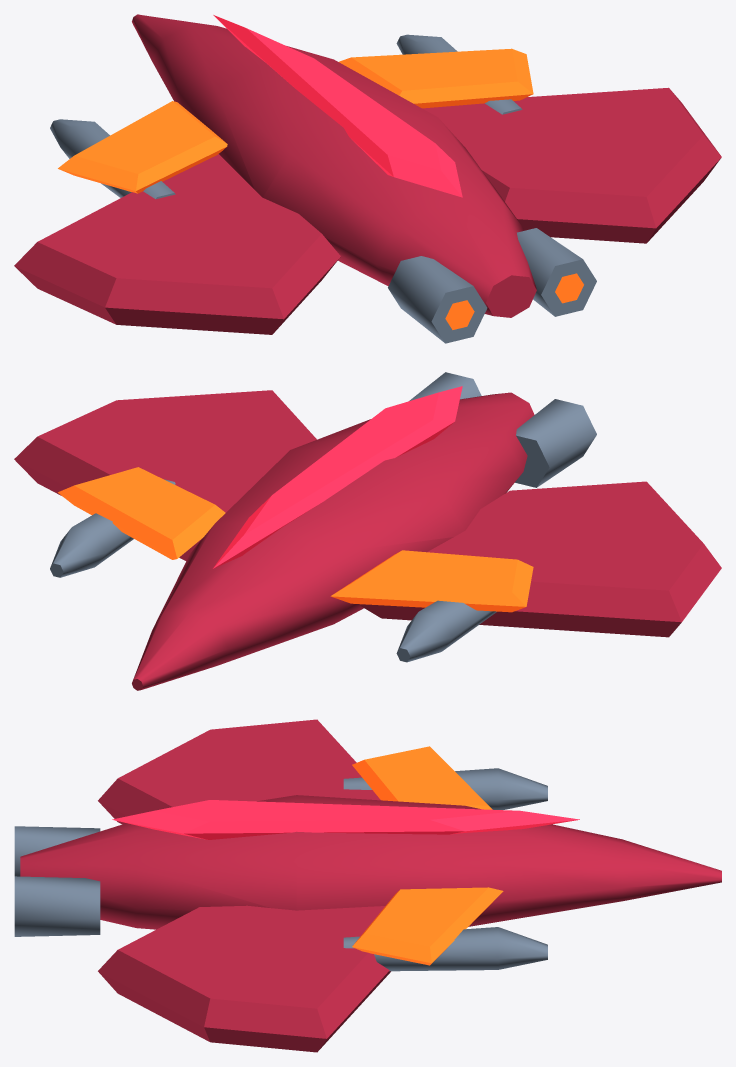
The model's file is boss_assault_mockup.glb.
3 renders of one model, top to bottom at view 1: azimuth 30°, elevation 25°; view 2: azimuth 150°, elevation 25°; view 3: azimuth 270°, elevation 25°, orthographic. The views are drawn at different scales.
Parts seen in each view (by area): view 1: BOSS // ASSAULT WING; view 2: BOSS // ASSAULT WING; view 3: BOSS // ASSAULT WING.
Part boxes in pixels (x1=…): BOSS // ASSAULT WING: x1=14, y1=14, x2=721, y2=343; BOSS // ASSAULT WING: x1=14, y1=372, x2=721, y2=690; BOSS // ASSAULT WING: x1=14, y1=719, x2=721, y2=1052.
Size of the model in its own units: 9.96 by 1.71 by 9.74.
